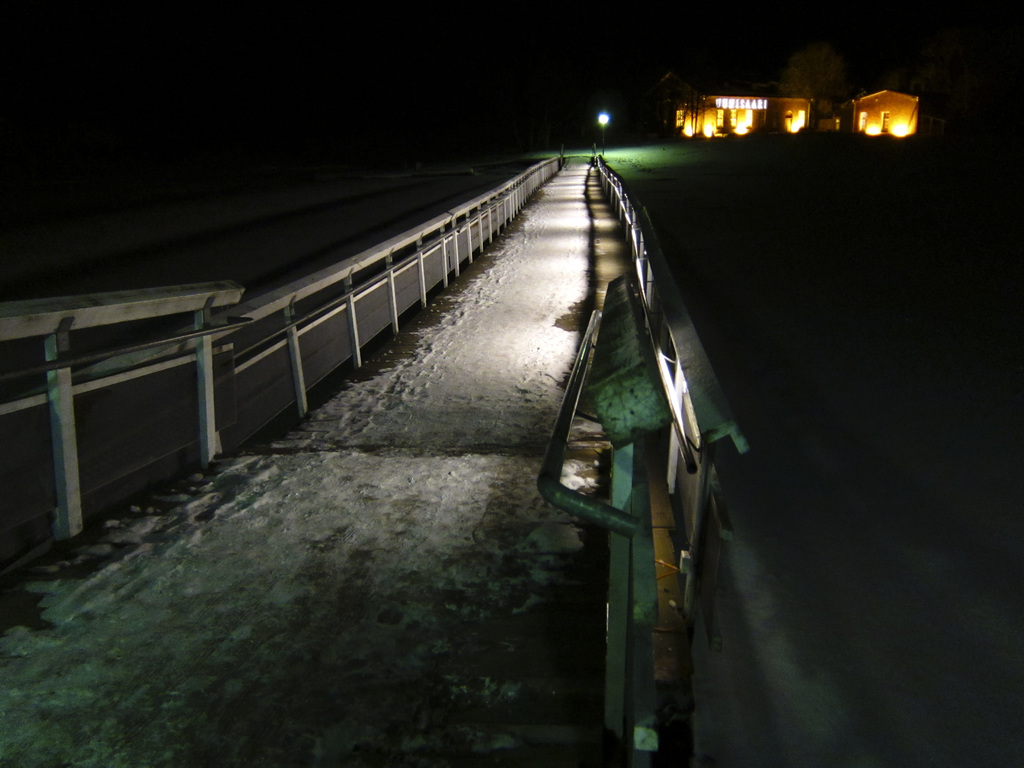Tree: (654, 71, 714, 144), (791, 49, 837, 104)
